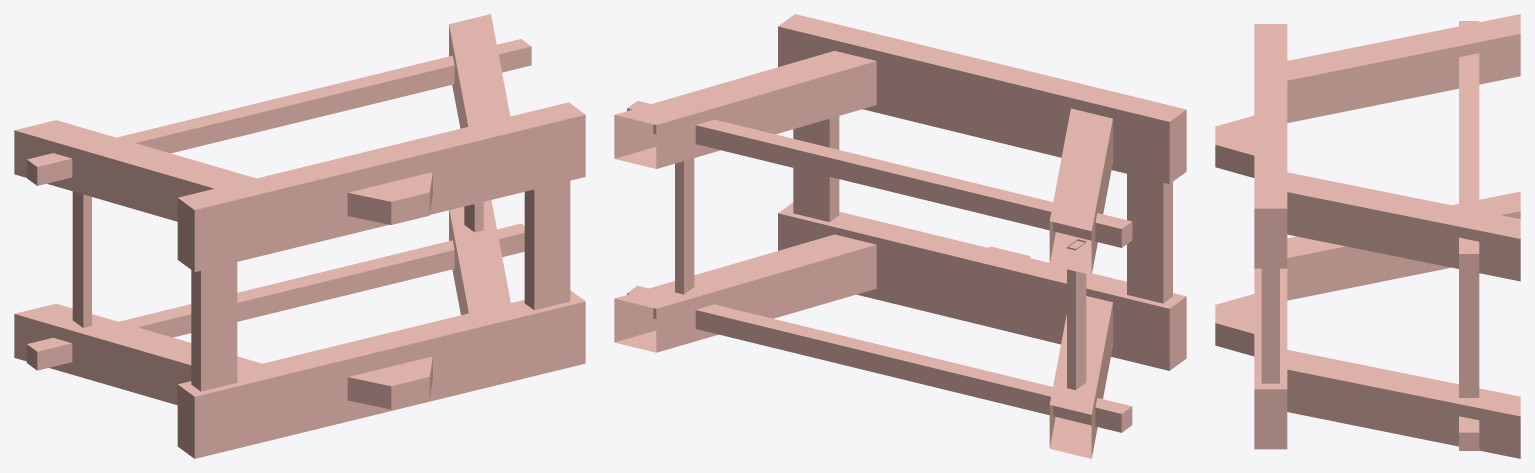
The model's file is Mega_Asset_s_Pack_Cylinder_005.FBX.
3 renders of one model, left to right at view 1: azimuth 30°, elevation 25°; view 2: azimuth 150°, elevation 25°; view 3: azimuth 270°, elevation 25°, orthographic. The views are drawn at different scales.
Visible parts, largest first — view 1: Mega_Asset_s_Pack_Cylinder_005; view 2: Mega_Asset_s_Pack_Cylinder_005; view 3: Mega_Asset_s_Pack_Cylinder_005.
Boxes of the visible parts, bbox=[...] form: Mega_Asset_s_Pack_Cylinder_005: bbox=[14, 14, 585, 458]; Mega_Asset_s_Pack_Cylinder_005: bbox=[614, 14, 1186, 458]; Mega_Asset_s_Pack_Cylinder_005: bbox=[1215, 14, 1520, 458].
Size of what is drawn, in the model's own units: 292 by 162 by 141.
